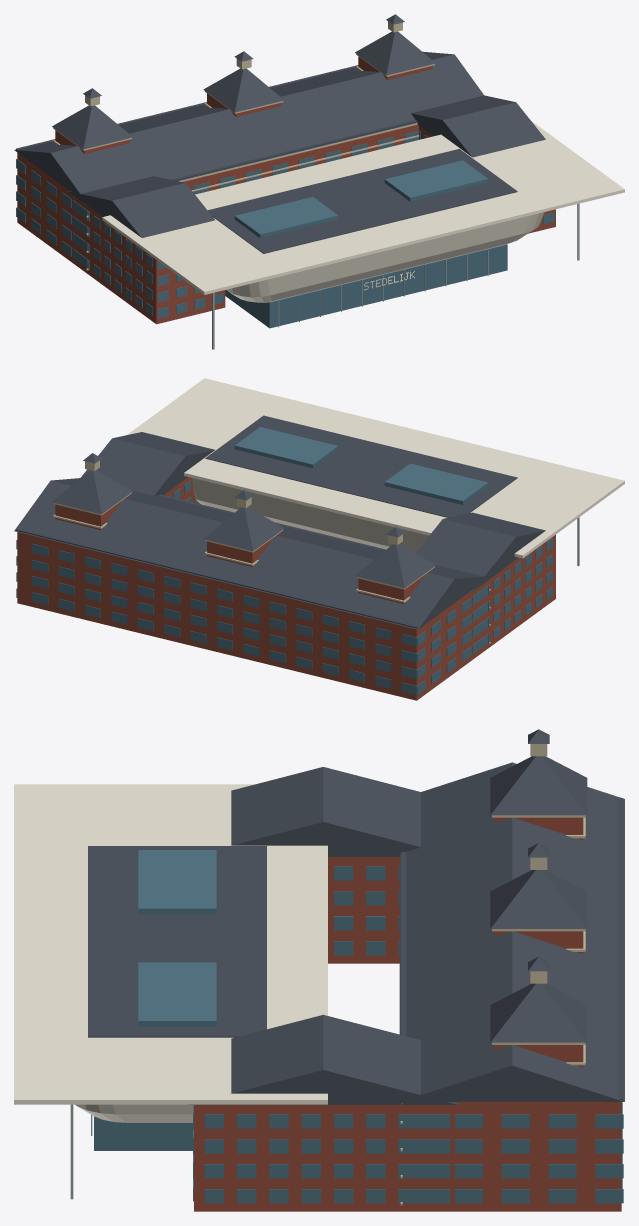
Rendered from stedelijk-museum.glb.
3 views of the same model, one above another, from view 1: azimuth 30°, elevation 25°; view 2: azimuth 150°, elevation 25°; view 3: azimuth 270°, elevation 25° (orthographic). The views are drawn at different scales.
Parts seen in each view (by area): view 1: stedelijk-museum; view 2: stedelijk-museum; view 3: stedelijk-museum.
Part boxes in pixels (x1,y1,x2,y2): stedelijk-museum: (14,14,624,349); stedelijk-museum: (14,378,624,700); stedelijk-museum: (14,729,624,1211).
Bounding box in the file's own units: 92.37 × 29.9 × 75.62.
